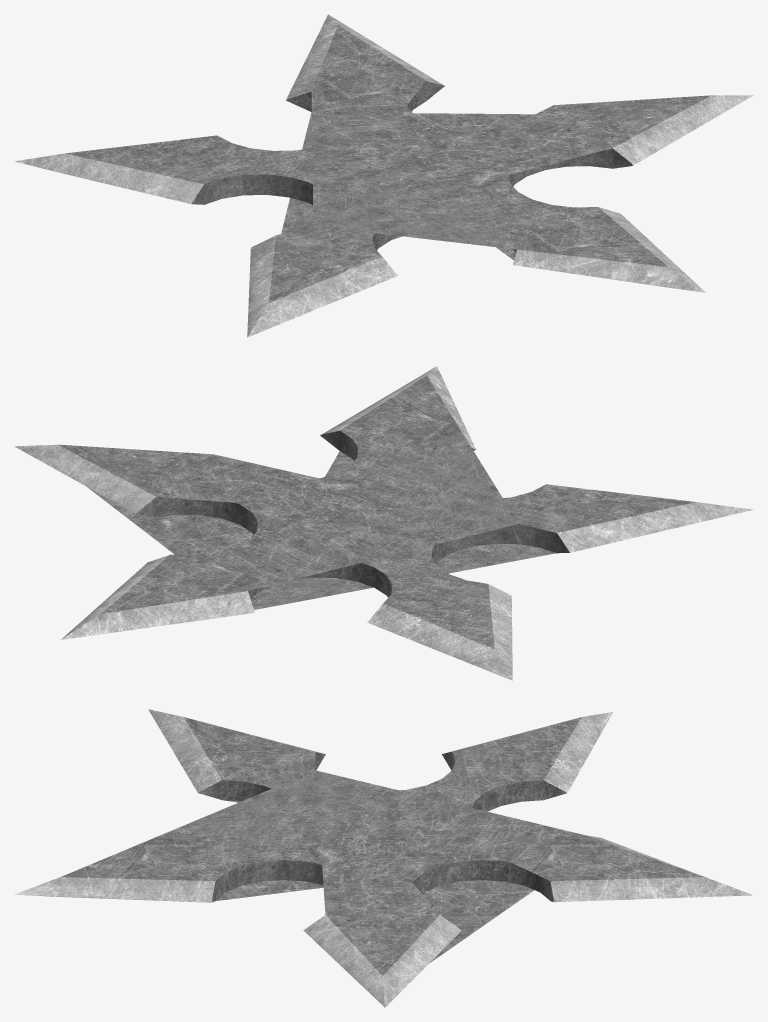
Rendered from ninjastar.fbx.
3 renders of one model, top to bottom at view 1: azimuth 30°, elevation 25°; view 2: azimuth 150°, elevation 25°; view 3: azimuth 270°, elevation 25°, orthographic. The views are drawn at different scales.
Parts seen in each view (by area): view 1: pCube6; view 2: pCube6; view 3: pCube6.
Part boxes in pixels (bbox=[...]): pCube6: bbox=[14, 14, 753, 337]; pCube6: bbox=[14, 366, 753, 680]; pCube6: bbox=[14, 709, 752, 1007].
Size of the model in its own units: 14.47 by 0.4524 by 15.15.
Materials: 2 (2 with a texture image).
